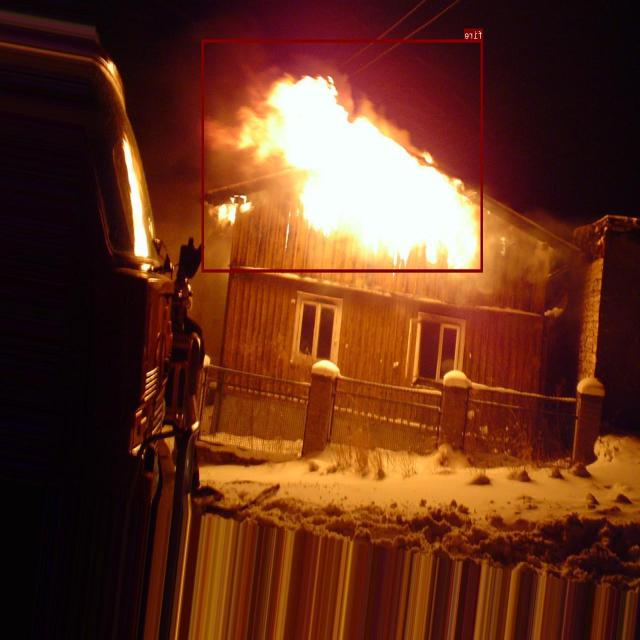fire: (202, 38, 483, 272)
